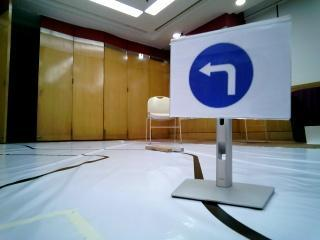left: (167, 40, 282, 118)
